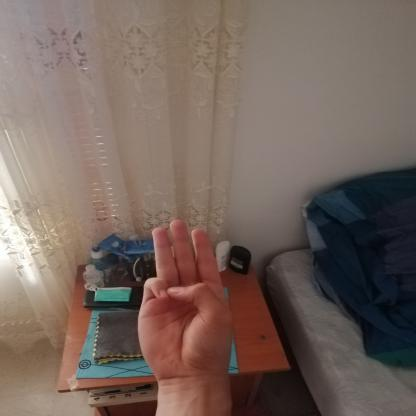THA: (124, 210, 244, 392)
